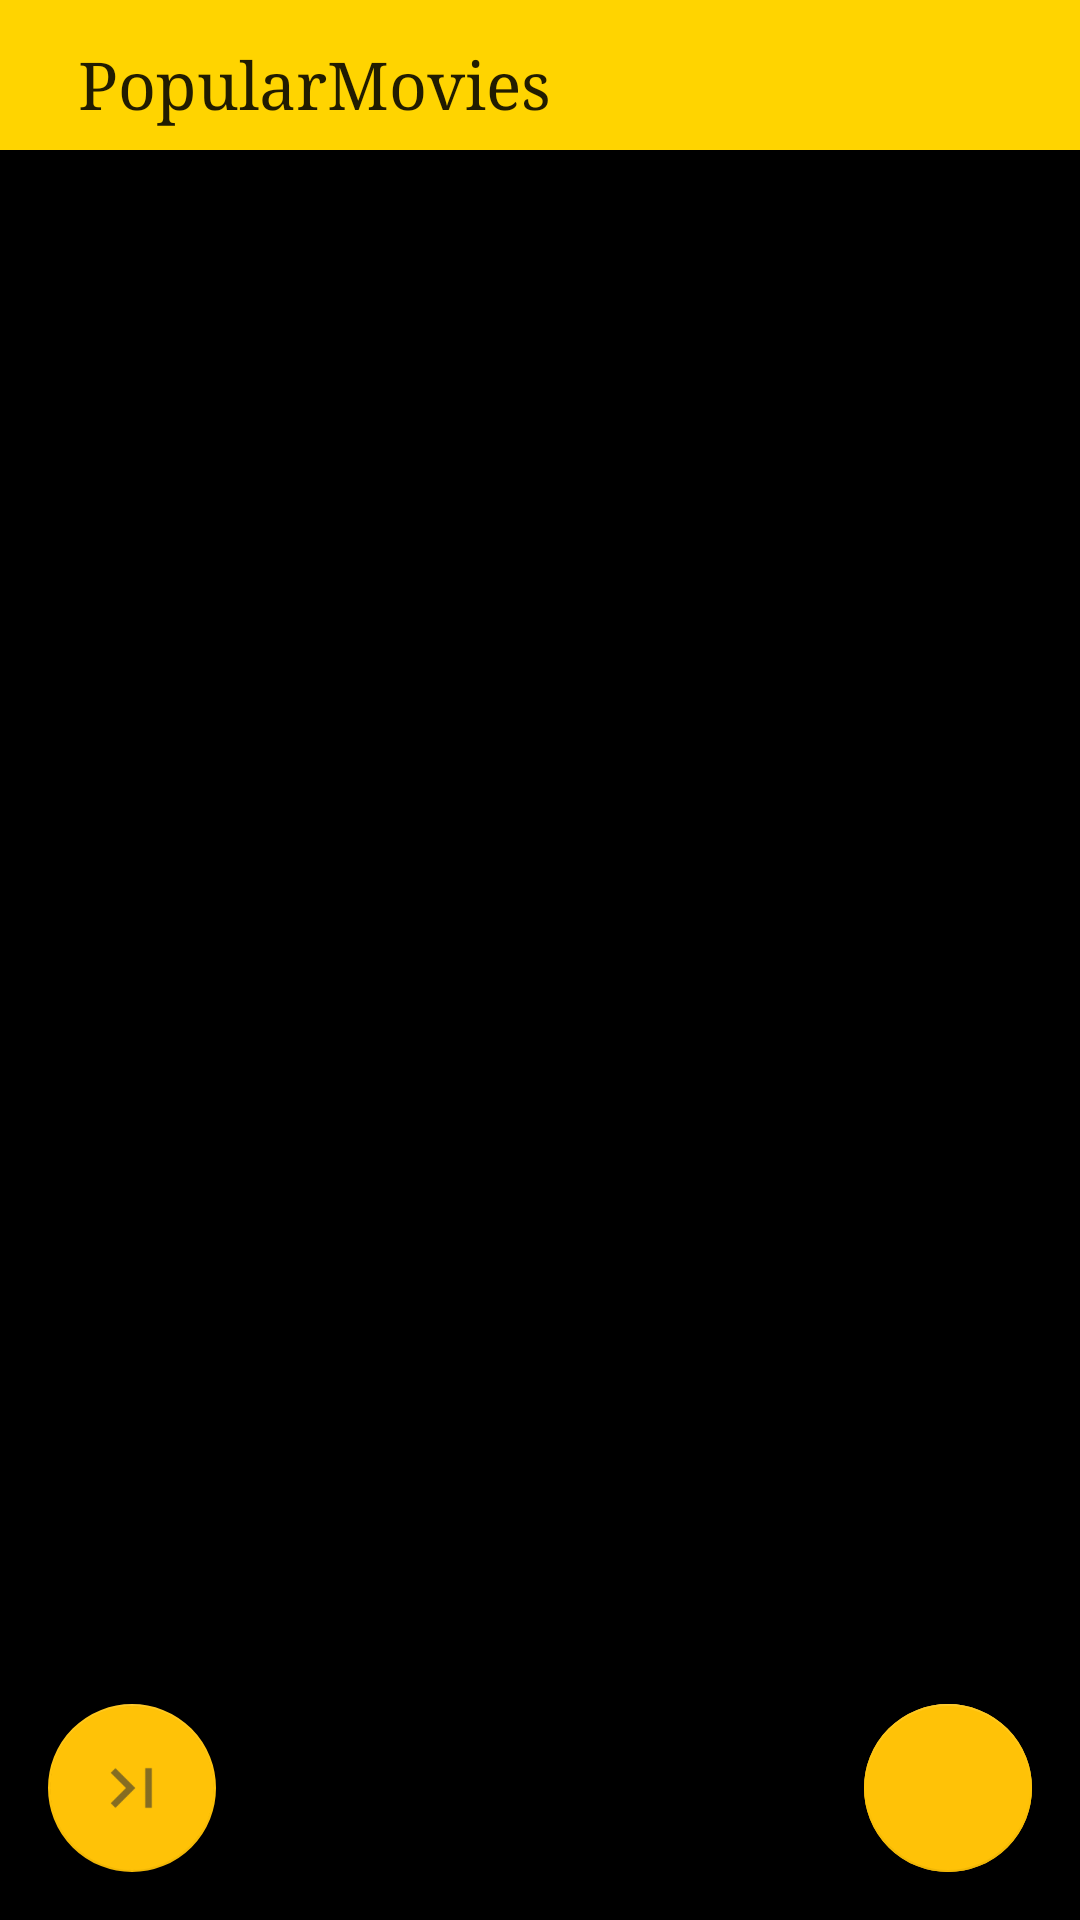

Icons on this 1080 × 1920 Android screen, each with the point to tap as (x=x, y=y):
last page: (x=132, y=1788)
